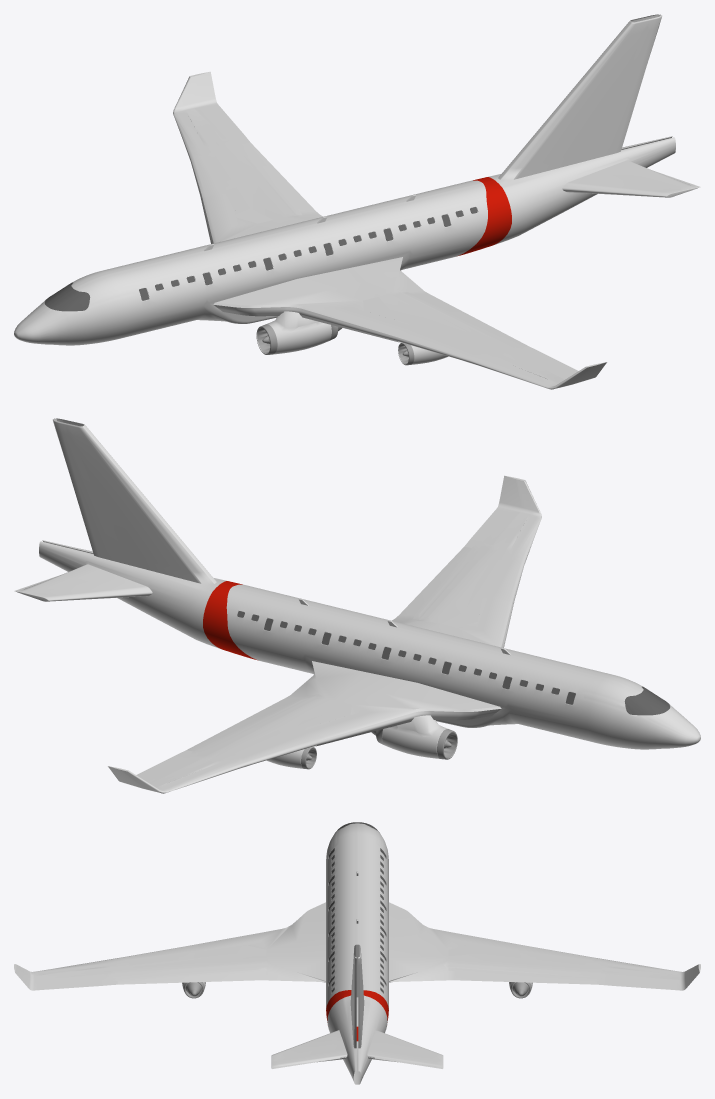
The model's file is samolot1.glb.
3 views of the same model, one above another, from view 1: azimuth 30°, elevation 25°; view 2: azimuth 150°, elevation 25°; view 3: azimuth 270°, elevation 25° (orthographic). The views are drawn at different scales.
Visible parts, largest first — view 1: Cylinder, Cylinder.001, Cylinder.002; view 2: Cylinder, Cylinder.003, Cylinder.004; view 3: Cylinder.
Boxes of the visible parts, <box> form: Cylinder: <box>14,14,700,389</box>; Cylinder.001: <box>256,311,341,354</box>; Cylinder.002: <box>398,343,448,365</box>; Cylinder: <box>14,418,700,793</box>; Cylinder.003: <box>371,715,457,759</box>; Cylinder.004: <box>266,747,316,769</box>; Cylinder: <box>14,822,700,1084</box>.
Size of the model in its own units: 3.84 by 1.17 by 4.02.
